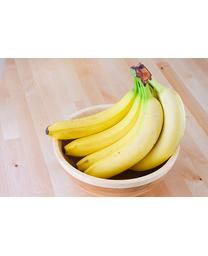banana: (46, 62, 188, 179)
